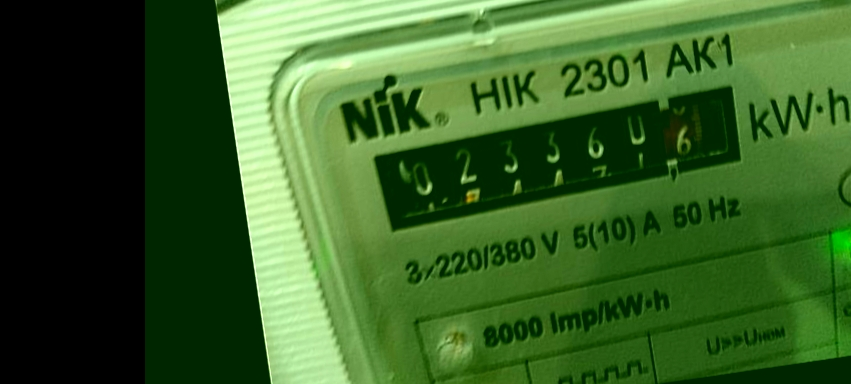0: (407, 156, 438, 202), (623, 110, 651, 150)
2: (450, 144, 481, 187)
3: (496, 136, 523, 179), (537, 128, 565, 169)
6: (579, 121, 611, 165), (672, 122, 698, 161)
screen: (348, 71, 762, 246)
